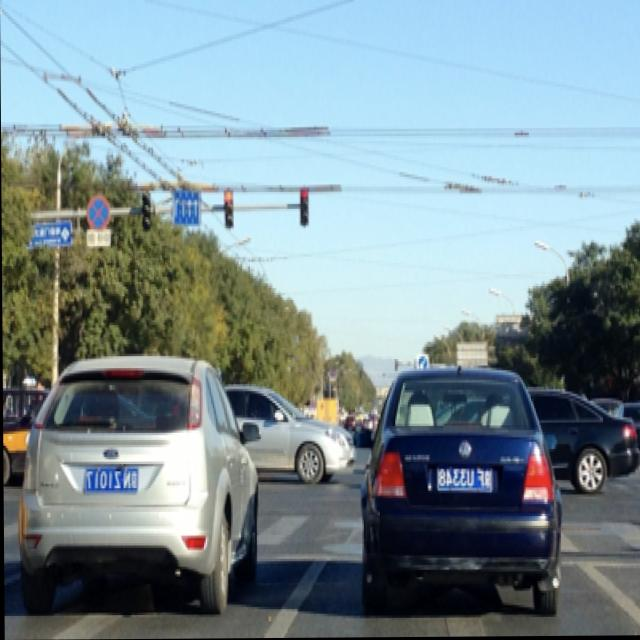licence: (436, 464, 495, 491), (86, 464, 139, 489)
